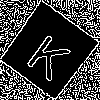K: (24, 25, 79, 83)
